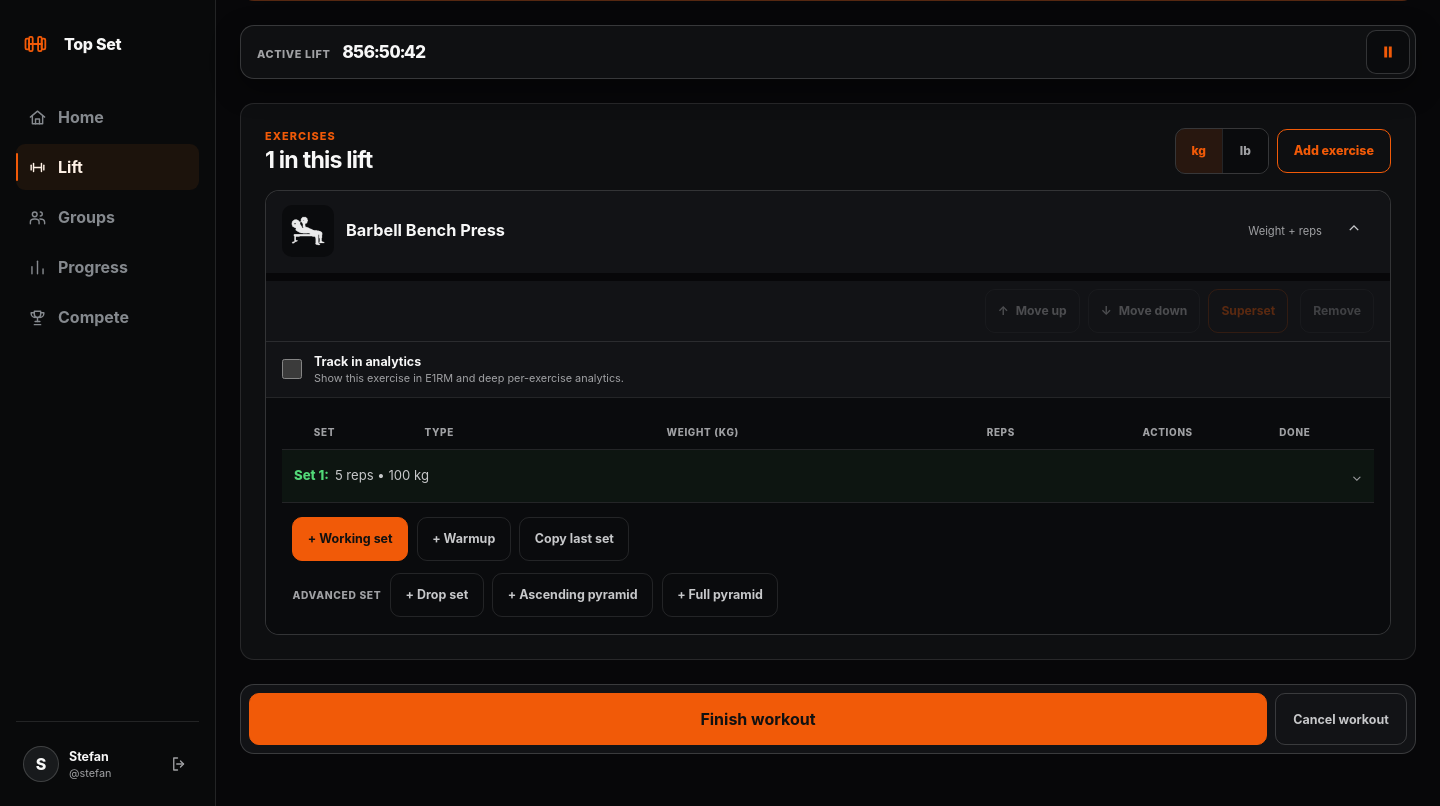
Test case: workout reliability integration gate › re-checks the server after a cancel race and does not revive the terminal workout
(page scrolled)
Click the button "Cancel workout" at (1341, 719), box [1275,693,1407,745]
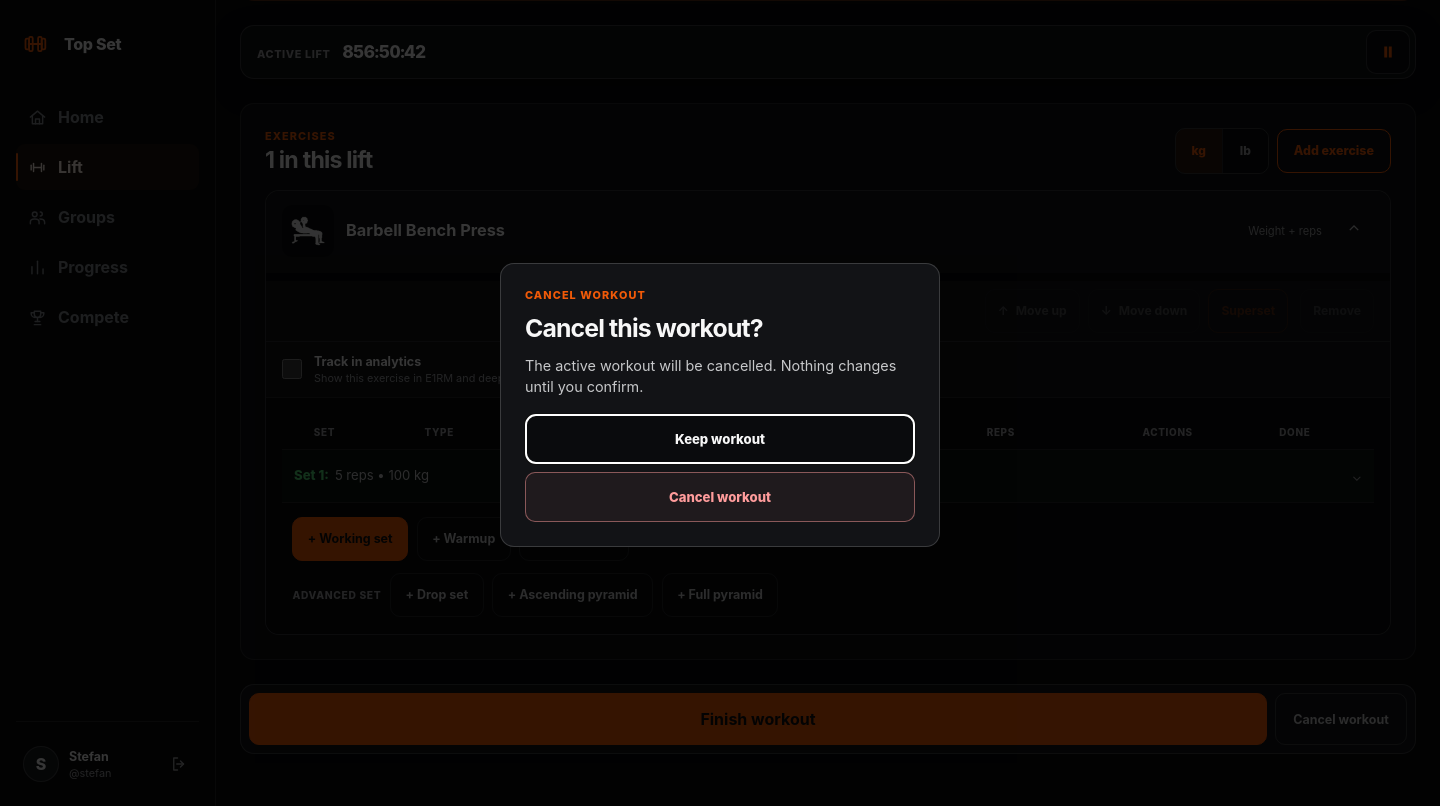
Click the button "Cancel workout" at (720, 497), box [525,472,915,522]
(page scrolled)
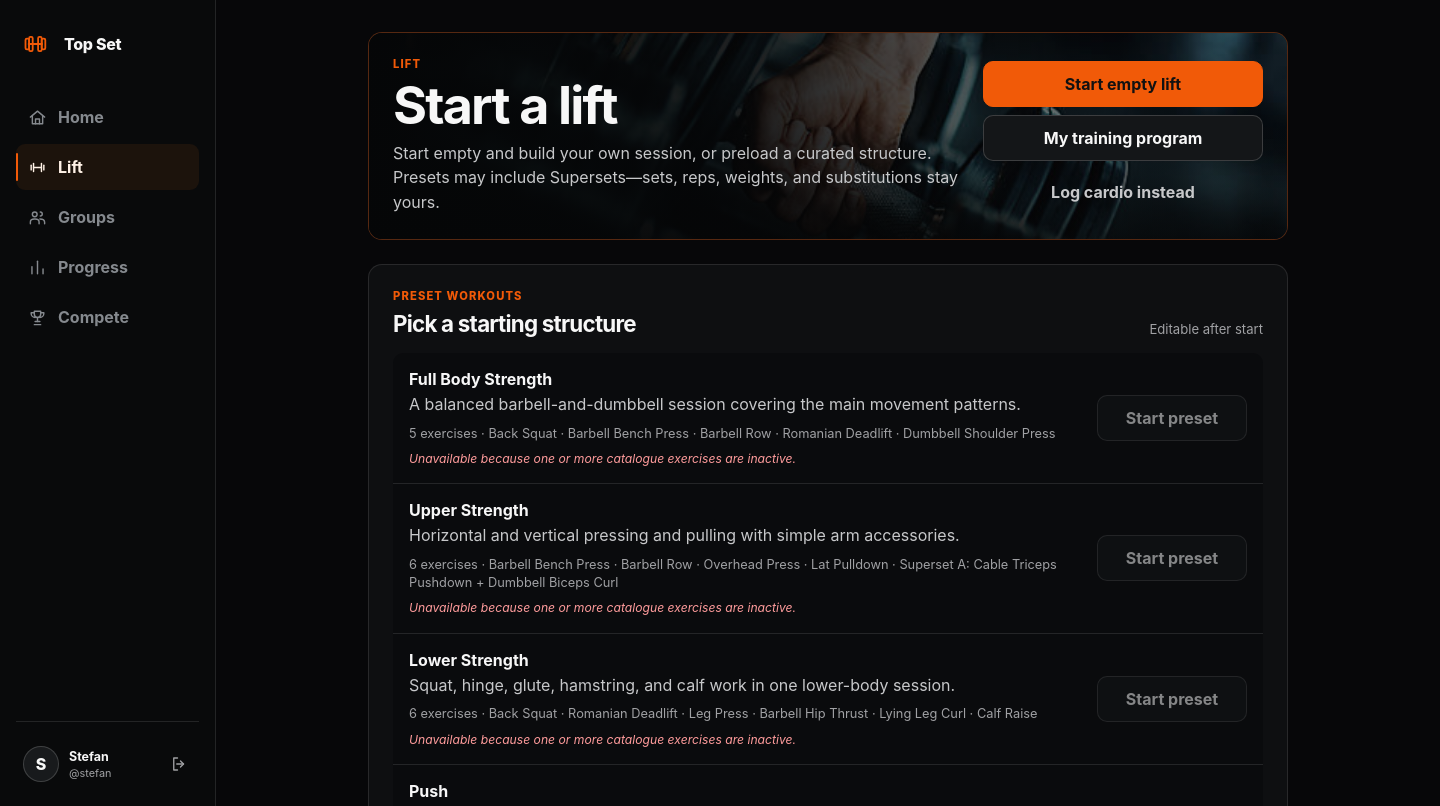
Now the heading "Start a lift" is shown, box [393,74,617,137]
